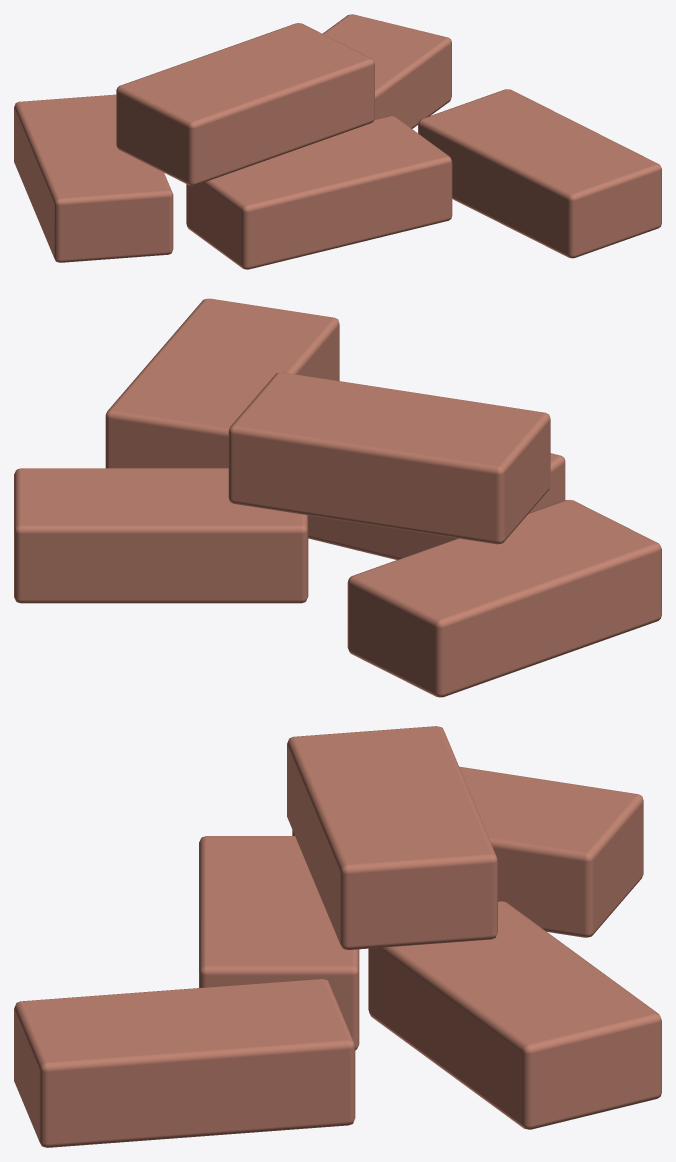
3 renders of one model, top to bottom at view 1: azimuth 30°, elevation 25°; view 2: azimuth 150°, elevation 25°; view 3: azimuth 270°, elevation 25°, orthographic. The views are drawn at different scales.
Parts seen in each view (by area): view 1: brick.003, brick, brick.004, brick.002, brick.001; view 2: brick.003, brick.002, brick.001, brick.004, brick; view 3: brick.004, brick.001, brick.003, brick.002, brick.
Boxes of the visible parts, <box> form: brick.003: <box>116,23,374,185</box>; brick: <box>186,116,452,269</box>; brick.004: <box>418,89,661,258</box>; brick.002: <box>14,94,173,262</box>; brick.001: <box>322,14,451,128</box>; brick.003: <box>228,372,550,544</box>; brick.002: <box>347,499,661,697</box>; brick.001: <box>14,468,308,603</box>; brick.004: <box>105,298,339,468</box>; brick: <box>308,453,565,559</box>; brick.004: <box>14,979,355,1147</box>; brick.001: <box>368,901,661,1129</box>; brick.003: <box>287,726,497,949</box>; brick.002: <box>292,766,643,937</box>; brick: <box>199,836,359,1050</box>.
Bounding box in the file's own units: 0.7971 × 0.2 × 0.6862.
